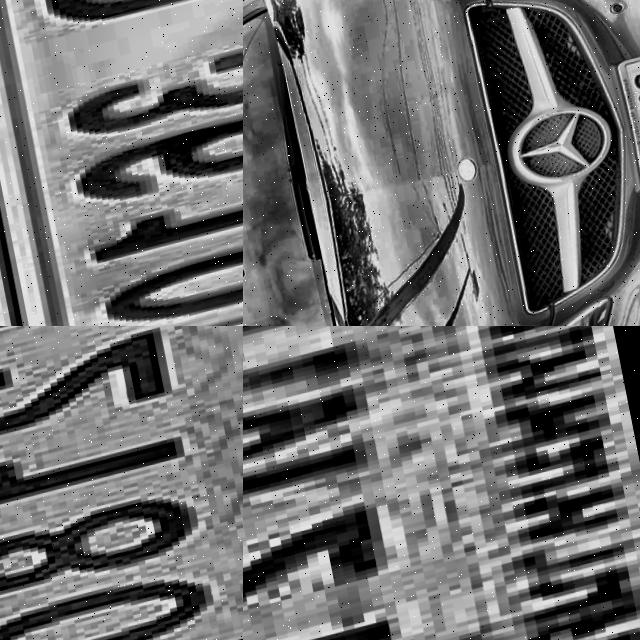license-plate: (243, 326, 640, 640), (0, 0, 243, 326), (0, 326, 243, 640), (615, 46, 640, 201)
